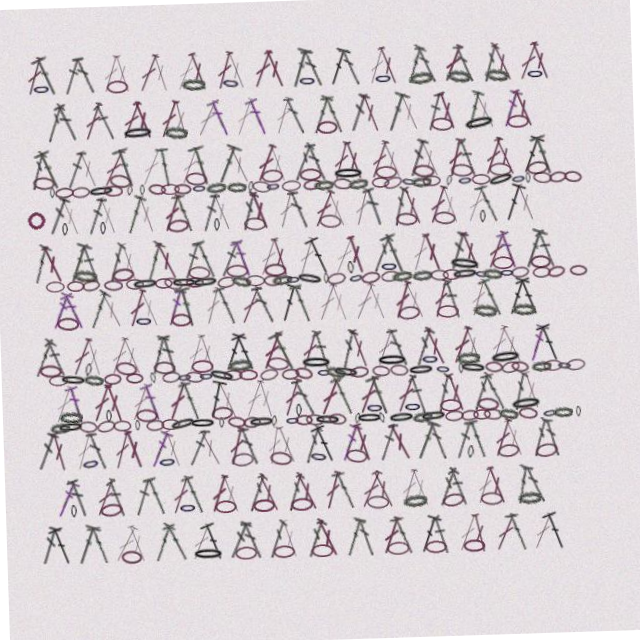chain: (469, 119, 502, 137), (450, 260, 483, 277), (488, 355, 521, 371), (507, 402, 540, 418), (491, 176, 520, 194), (128, 120, 160, 135), (206, 364, 234, 381), (166, 411, 194, 428), (297, 271, 325, 286), (337, 168, 369, 181), (299, 356, 331, 369), (375, 356, 407, 369), (185, 544, 217, 557), (113, 354, 137, 371), (416, 73, 441, 89), (330, 366, 358, 380), (113, 167, 137, 183), (436, 496, 460, 512), (454, 73, 479, 88), (492, 73, 517, 88), (74, 261, 99, 276), (473, 308, 498, 323), (226, 355, 251, 370), (397, 496, 422, 511), (265, 449, 288, 465), (341, 449, 364, 465), (531, 449, 554, 465), (92, 178, 119, 191), (133, 272, 160, 285), (193, 272, 220, 285), (453, 272, 480, 285), (58, 366, 85, 379), (458, 366, 485, 379), (54, 413, 81, 426), (417, 413, 444, 426), (417, 167, 440, 182), (531, 167, 554, 182), (170, 214, 193, 229), (322, 214, 345, 229), (113, 261, 136, 276), (398, 308, 421, 323), (265, 355, 288, 370), (474, 402, 497, 417), (493, 449, 516, 464), (94, 496, 117, 511), (170, 121, 194, 135), (387, 177, 408, 193), (164, 271, 185, 287), (512, 497, 536, 511), (323, 365, 345, 380), (406, 367, 433, 379), (245, 414, 272, 426), (311, 414, 338, 426), (385, 414, 412, 426), (37, 168, 60, 182), (455, 168, 478, 182), (208, 403, 231, 417), (227, 450, 250, 464), (232, 271, 253, 286), (189, 74, 213, 87), (512, 309, 536, 322), (455, 356, 479, 369), (56, 403, 80, 416), (437, 121, 459, 135), (190, 168, 212, 182), (494, 168, 516, 182), (247, 215, 269, 229), (399, 215, 421, 229), (437, 215, 459, 229), (190, 262, 212, 276), (57, 309, 79, 323), (38, 356, 60, 370), (152, 356, 174, 370), (133, 403, 155, 417), (361, 497, 383, 511), (475, 497, 497, 511), (292, 365, 312, 380), (93, 412, 113, 427), (172, 273, 199, 284), (186, 414, 213, 425), (353, 414, 380, 425), (352, 178, 373, 192), (409, 413, 430, 427), (114, 544, 135, 558), (114, 74, 136, 87), (513, 121, 535, 134), (266, 168, 288, 181), (304, 168, 326, 181), (380, 168, 402, 181), (228, 262, 250, 275), (266, 262, 288, 275), (494, 262, 516, 275), (437, 309, 459, 322), (190, 356, 212, 369), (437, 403, 459, 416), (209, 497, 231, 510), (247, 497, 269, 510), (285, 497, 307, 510), (228, 544, 250, 557), (266, 544, 288, 557), (304, 544, 326, 557), (380, 544, 402, 557), (418, 544, 440, 557), (456, 544, 478, 557), (229, 73, 248, 88), (77, 449, 96, 464), (305, 449, 324, 464), (256, 178, 276, 192), (218, 272, 238, 286), (328, 272, 348, 286), (362, 272, 382, 286), (548, 272, 568, 286), (499, 366, 519, 380), (323, 121, 344, 134), (210, 178, 231, 191), (532, 262, 553, 275), (273, 272, 294, 285), (393, 272, 414, 285), (413, 272, 434, 285), (171, 309, 192, 322), (495, 413, 516, 426), (258, 366, 277, 380), (509, 366, 528, 380), (337, 178, 357, 191), (537, 178, 557, 191), (564, 366, 584, 379), (75, 413, 95, 426), (302, 413, 322, 426), (480, 413, 500, 426), (515, 413, 535, 426), (154, 450, 172, 464), (152, 178, 171, 191), (307, 178, 326, 191), (553, 178, 572, 191), (568, 178, 587, 191), (83, 272, 102, 285), (382, 272, 401, 285), (512, 272, 531, 285), (160, 366, 179, 379), (388, 366, 407, 379), (483, 366, 502, 379), (224, 413, 243, 426), (325, 413, 344, 426), (318, 179, 338, 191), (416, 179, 436, 191), (484, 273, 504, 285), (82, 367, 102, 379), (183, 367, 203, 379), (530, 367, 550, 379), (47, 414, 67, 426), (349, 272, 366, 286), (40, 74, 58, 87), (306, 74, 324, 87), (382, 74, 400, 87), (534, 74, 552, 87), (382, 262, 400, 275), (135, 309, 153, 322), (420, 356, 438, 369), (363, 403, 381, 416), (401, 403, 419, 416), (173, 497, 191, 510), (59, 179, 78, 191), (286, 179, 305, 191), (105, 273, 124, 285), (348, 367, 367, 379), (370, 367, 389, 379), (442, 414, 461, 426), (231, 179, 251, 190), (550, 414, 570, 425), (76, 179, 94, 191), (178, 179, 196, 191), (265, 273, 283, 285), (432, 273, 450, 285), (534, 273, 552, 285), (280, 367, 298, 379), (143, 414, 161, 426), (240, 414, 258, 426), (458, 414, 476, 426), (108, 179, 127, 190), (165, 179, 184, 190), (476, 179, 495, 190), (47, 273, 66, 284), (247, 273, 266, 284), (47, 367, 66, 378), (222, 367, 241, 378), (237, 367, 256, 378), (542, 367, 561, 378), (158, 414, 177, 425), (405, 178, 421, 191), (376, 179, 394, 190), (427, 179, 445, 190), (68, 273, 86, 284), (127, 273, 145, 284), (156, 273, 174, 284), (187, 273, 205, 284), (444, 273, 462, 284), (571, 273, 589, 284), (102, 367, 120, 378), (124, 367, 142, 378), (110, 414, 128, 425), (292, 414, 310, 425), (470, 414, 488, 425), (515, 179, 531, 191), (175, 367, 191, 379), (555, 367, 571, 379), (539, 414, 555, 426), (270, 179, 285, 191), (462, 179, 477, 191), (476, 273, 491, 285), (434, 367, 449, 379), (196, 179, 211, 190), (287, 273, 302, 284), (501, 273, 516, 284), (197, 367, 212, 378), (315, 367, 330, 378), (282, 414, 297, 425), (83, 356, 91, 369), (349, 262, 356, 275), (463, 450, 470, 463), (375, 414, 383, 425), (65, 215, 71, 228), (103, 215, 109, 228), (217, 215, 223, 228), (483, 215, 489, 228), (103, 403, 109, 416), (293, 403, 299, 416), (65, 497, 71, 510), (450, 179, 457, 190), (148, 367, 155, 378), (351, 414, 358, 425), (131, 179, 137, 190), (252, 179, 258, 190), (268, 414, 274, 425), (54, 179, 59, 190), (144, 179, 149, 190), (530, 179, 535, 190), (325, 273, 330, 284), (457, 367, 462, 378), (132, 414, 137, 425), (216, 414, 221, 425), (573, 414, 578, 425)
double: (267, 329, 299, 371), (39, 47, 70, 89), (39, 141, 70, 183), (218, 141, 248, 183), (306, 235, 336, 277), (382, 235, 412, 277), (306, 423, 336, 465), (408, 423, 438, 465), (389, 94, 418, 136), (522, 235, 551, 277), (230, 329, 259, 371), (363, 376, 392, 418), (66, 517, 95, 559), (104, 518, 134, 558), (117, 141, 145, 183), (523, 141, 551, 183), (535, 141, 563, 183), (67, 235, 95, 277), (504, 282, 532, 324), (516, 282, 544, 324), (219, 329, 247, 371), (535, 329, 563, 371), (41, 517, 69, 559), (193, 517, 221, 559), (535, 517, 563, 559), (192, 424, 221, 464), (382, 424, 411, 464), (29, 329, 57, 370), (478, 376, 506, 417), (155, 517, 183, 558), (295, 47, 322, 89), (333, 47, 360, 89), (193, 141, 220, 183), (504, 188, 531, 230), (409, 517, 436, 559), (60, 95, 88, 135), (200, 95, 228, 135), (105, 142, 133, 182), (155, 236, 183, 276), (60, 283, 88, 323), (98, 283, 126, 323), (497, 330, 525, 370), (288, 471, 316, 511), (352, 471, 380, 511), (364, 471, 392, 511), (307, 518, 335, 558), (485, 518, 513, 558), (314, 94, 341, 135), (478, 188, 505, 229), (86, 282, 113, 323), (478, 282, 505, 323), (326, 470, 353, 511), (143, 517, 170, 558), (383, 517, 410, 558), (175, 282, 201, 324), (143, 48, 170, 88), (181, 48, 208, 88), (497, 48, 524, 88), (523, 48, 550, 88), (478, 95, 505, 135), (143, 142, 170, 182), (231, 142, 258, 182), (497, 142, 524, 182), (314, 189, 341, 229), (41, 236, 68, 276), (333, 236, 360, 276), (238, 283, 265, 323), (352, 283, 379, 323), (402, 283, 429, 323), (421, 330, 448, 370), (212, 377, 239, 417), (314, 377, 341, 417), (143, 424, 170, 464), (48, 471, 75, 511), (250, 471, 277, 511), (181, 518, 208, 558), (219, 518, 246, 558), (523, 518, 550, 558), (258, 47, 284, 88), (270, 47, 296, 88), (410, 47, 436, 88), (448, 47, 474, 88), (125, 94, 151, 135), (213, 94, 239, 135), (251, 94, 277, 135), (327, 94, 353, 135), (403, 94, 429, 135), (517, 94, 543, 135), (80, 141, 106, 182), (182, 141, 208, 182), (258, 141, 284, 182), (384, 141, 410, 182), (422, 141, 448, 182), (49, 188, 75, 229), (61, 188, 87, 229), (125, 188, 151, 229), (327, 188, 353, 229), (403, 188, 429, 229), (467, 188, 493, 229), (194, 235, 220, 276), (486, 235, 512, 276), (49, 282, 75, 323), (137, 282, 163, 323), (213, 282, 239, 323), (277, 282, 303, 323), (315, 282, 341, 323), (68, 329, 94, 370), (118, 329, 144, 370), (258, 329, 284, 370), (448, 329, 474, 370), (125, 376, 151, 417), (239, 376, 265, 417), (327, 376, 353, 417), (353, 376, 379, 417), (391, 376, 417, 417), (30, 423, 56, 464), (270, 423, 296, 464), (87, 470, 113, 511), (137, 470, 163, 511), (175, 470, 201, 511), (334, 517, 360, 558), (448, 517, 474, 558), (498, 517, 524, 558), (429, 471, 455, 511), (194, 47, 219, 88), (232, 47, 257, 88), (384, 47, 409, 88), (536, 47, 561, 88), (87, 94, 112, 135), (137, 94, 162, 135), (163, 94, 188, 135), (239, 94, 264, 135), (353, 94, 378, 135), (365, 94, 390, 135), (372, 141, 397, 182), (486, 141, 511, 182), (99, 188, 124, 229), (175, 188, 200, 229), (213, 188, 238, 229), (251, 188, 276, 229), (429, 188, 454, 229), (517, 188, 542, 229), (144, 235, 169, 276), (232, 235, 257, 276), (258, 235, 283, 276), (422, 235, 447, 276), (460, 235, 485, 276), (498, 235, 523, 276), (289, 282, 314, 323), (365, 282, 390, 323), (106, 329, 131, 370), (346, 329, 371, 370), (372, 329, 397, 370), (460, 329, 485, 370), (486, 329, 511, 370), (49, 376, 74, 417), (87, 376, 112, 417), (137, 376, 162, 417), (163, 376, 188, 417), (175, 376, 200, 417), (441, 376, 466, 417), (118, 423, 143, 464), (334, 423, 359, 464), (498, 423, 523, 464), (61, 470, 86, 511), (163, 470, 188, 511), (213, 470, 238, 511), (403, 470, 428, 511), (479, 470, 504, 511), (80, 517, 105, 558), (118, 517, 143, 558), (372, 517, 397, 558), (410, 330, 435, 370), (289, 377, 314, 417), (296, 518, 321, 558), (107, 47, 131, 88), (373, 47, 397, 88), (278, 94, 302, 135), (442, 94, 466, 135), (468, 94, 492, 135), (506, 94, 530, 135), (271, 141, 295, 182), (347, 141, 371, 182), (411, 141, 435, 182), (138, 188, 162, 229), (164, 188, 188, 229), (366, 188, 390, 229), (442, 188, 466, 229), (31, 235, 55, 276), (119, 235, 143, 276), (297, 235, 321, 276), (126, 282, 150, 323), (164, 282, 188, 323), (328, 282, 352, 323), (145, 329, 169, 370), (183, 329, 207, 370), (297, 329, 321, 370), (525, 329, 549, 370), (100, 376, 124, 417), (202, 376, 226, 417), (278, 376, 302, 417), (157, 423, 181, 464), (347, 423, 371, 464), (461, 423, 485, 464), (487, 423, 511, 464), (202, 470, 226, 511), (392, 470, 416, 511), (468, 470, 492, 511), (31, 517, 55, 558), (271, 517, 295, 558), (99, 95, 124, 134), (296, 142, 321, 181), (372, 236, 397, 275), (252, 283, 276, 323), (31, 47, 54, 88), (119, 47, 142, 88), (157, 47, 180, 88), (221, 47, 244, 88), (335, 141, 358, 182), (271, 235, 294, 276), (347, 235, 370, 276), (411, 235, 434, 276), (449, 235, 472, 276), (202, 282, 225, 323), (392, 282, 415, 323), (468, 282, 491, 323), (157, 329, 180, 370), (195, 329, 218, 370), (62, 376, 85, 417), (252, 376, 275, 417), (518, 376, 541, 417), (69, 423, 92, 464), (107, 423, 130, 464), (316, 470, 339, 511), (43, 330, 67, 369), (183, 424, 207, 463), (240, 471, 264, 510), (518, 471, 542, 510), (81, 48, 104, 88), (309, 48, 332, 88), (461, 48, 484, 88), (50, 95, 73, 135), (81, 236, 104, 276), (100, 471, 123, 511), (279, 188, 301, 229), (355, 188, 377, 229), (431, 282, 453, 323), (82, 329, 104, 370), (44, 423, 66, 464), (222, 423, 244, 464), (347, 48, 370, 87), (423, 48, 446, 87), (290, 95, 313, 134), (221, 236, 244, 275), (537, 236, 560, 275), (468, 377, 491, 416), (442, 471, 465, 510), (259, 518, 282, 557), (70, 142, 92, 182), (310, 142, 332, 182), (462, 142, 484, 182), (89, 189, 111, 229), (241, 189, 263, 229), (291, 189, 313, 229), (336, 330, 358, 370), (386, 330, 408, 370), (405, 377, 427, 417), (82, 424, 104, 464), (234, 424, 256, 464), (298, 424, 320, 464), (279, 471, 301, 511), (234, 518, 256, 558), (507, 470, 528, 511), (70, 48, 91, 88), (488, 48, 509, 88), (177, 95, 198, 135), (450, 142, 471, 182), (108, 236, 129, 276), (184, 236, 205, 276), (443, 283, 464, 323), (374, 424, 395, 464), (424, 424, 445, 464), (450, 424, 471, 464), (526, 424, 547, 464), (424, 518, 445, 558), (33, 142, 53, 182), (204, 189, 224, 229), (311, 330, 331, 370), (128, 471, 148, 511), (349, 518, 369, 558), (463, 518, 483, 558), (432, 95, 451, 135), (394, 189, 413, 229), (432, 377, 451, 417), (508, 377, 527, 417), (261, 424, 280, 464), (539, 424, 558, 464), (160, 142, 178, 182)
noise: (29, 201, 51, 223)
